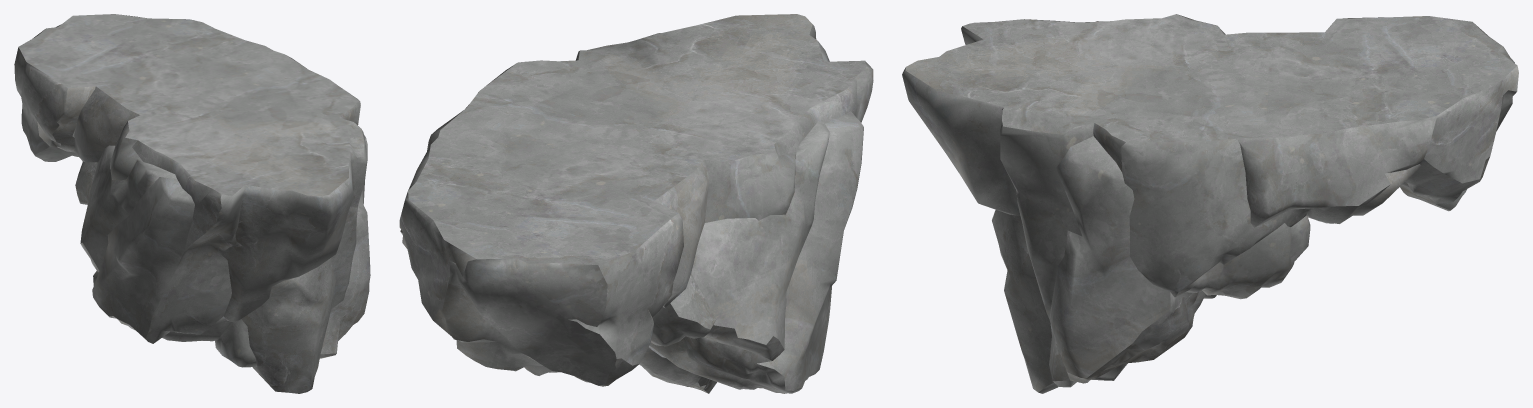
File: SM_Com_Roc_11AM.fbx
3 renders of one model, left to right at view 1: azimuth 30°, elevation 25°; view 2: azimuth 150°, elevation 25°; view 3: azimuth 270°, elevation 25°, orthographic. The views are drawn at different scales.
Visible parts, largest first — view 1: SM_Com_Roc_11AM.mo; view 2: SM_Com_Roc_11AM.mo; view 3: SM_Com_Roc_11AM.mo.
Boxes of the visible parts, box(x1,y1,x2,y2) form: SM_Com_Roc_11AM.mo: box(14, 14, 370, 393); SM_Com_Roc_11AM.mo: box(399, 14, 873, 393); SM_Com_Roc_11AM.mo: box(902, 14, 1518, 393).
Bounding box in the file's own units: 33.44 × 30.98 × 57.24.
